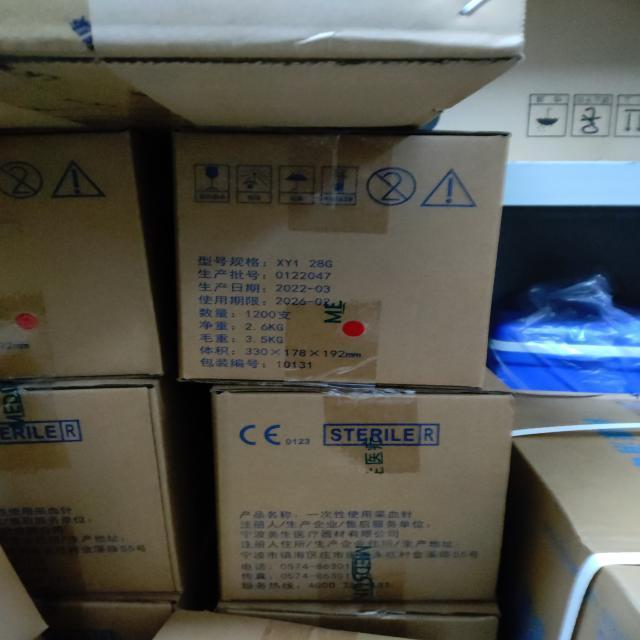box: (170, 136, 502, 394), (214, 384, 497, 600), (89, 2, 531, 136), (0, 389, 218, 599), (0, 136, 170, 382), (500, 390, 640, 640), (439, 0, 640, 165)
